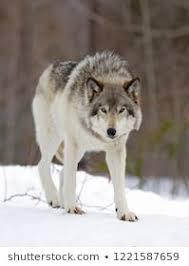Wolf: (27, 48, 143, 224)
